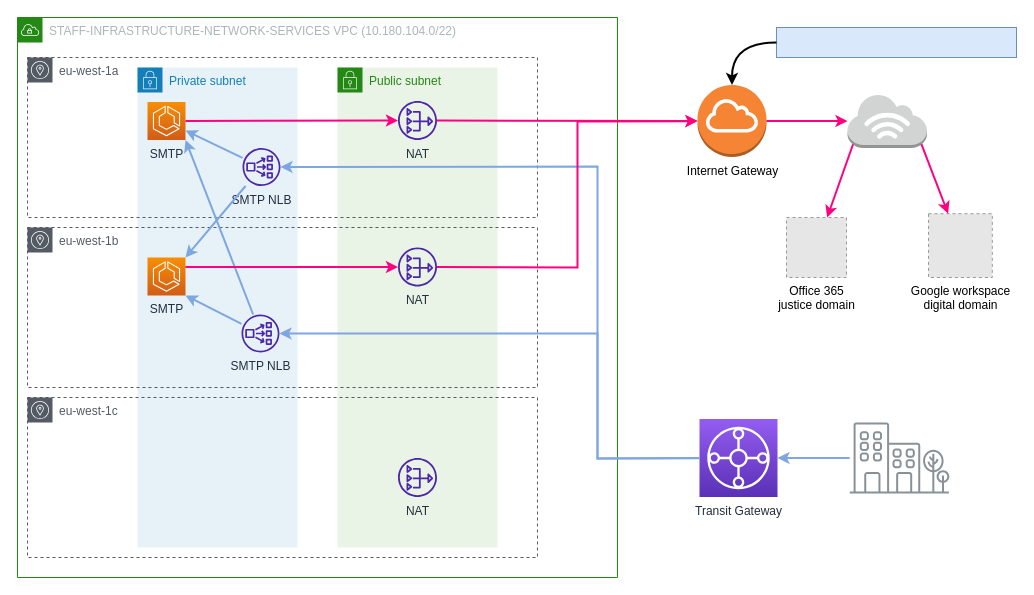
Some shapes in this 1034 by 595 pixel diagram are drawn without their labels. Grey dashed boxes stand in for pictures. Here are the shapes that lost their labels. From the top down, the centre of each, then its label:
At [896,42]: "Public DNS Records: SPF records to allow SMTP to send emails".
At [886,120]: "Internet".
At [899,457]: "MOJ HQ Sites".
